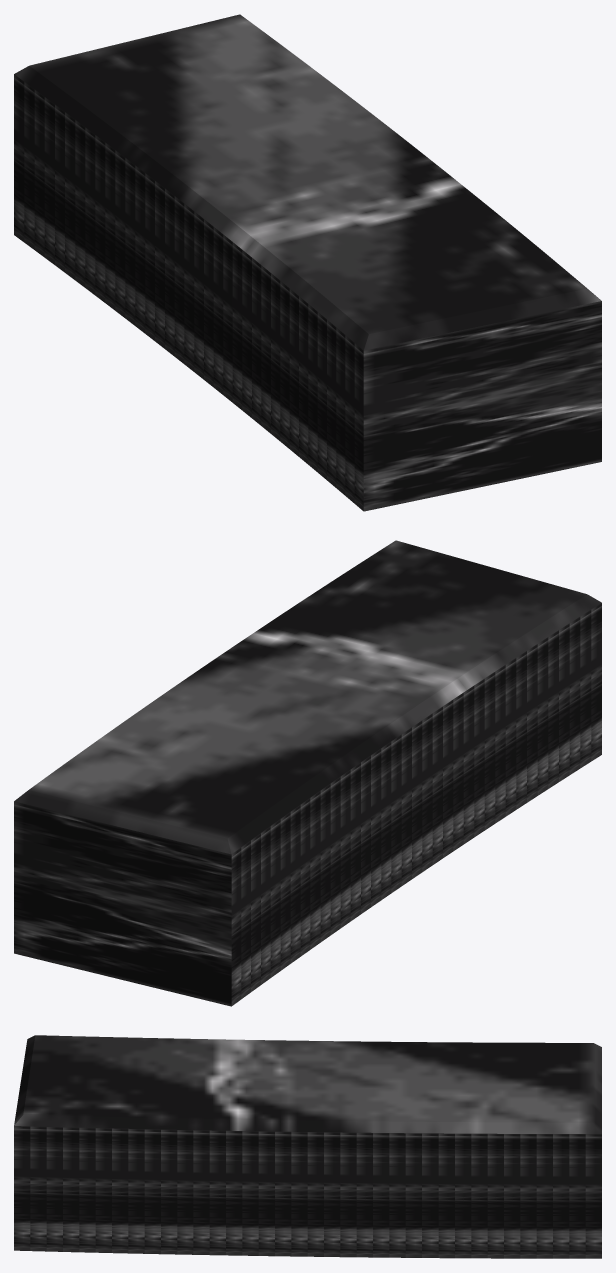
File: f02-black-marble-pool-trim-half.glb
The picture shows the model from 3 angles, top to bottom: view 1: azimuth 30°, elevation 25°; view 2: azimuth 150°, elevation 25°; view 3: azimuth 270°, elevation 25°; orthographic projection. The views are drawn at different scales.
Visible parts, largest first — view 1: f02-black-marble-pool-trim-half; view 2: f02-black-marble-pool-trim-half; view 3: f02-black-marble-pool-trim-half.
Boxes of the visible parts, x1,y1,x2,y2 form: f02-black-marble-pool-trim-half: [14, 14, 601, 511]; f02-black-marble-pool-trim-half: [14, 540, 601, 1006]; f02-black-marble-pool-trim-half: [14, 1035, 601, 1258].
Bounding box in the file's own units: 0.2074 × 0.135 × 0.5427.
1 material, 1 textured.
